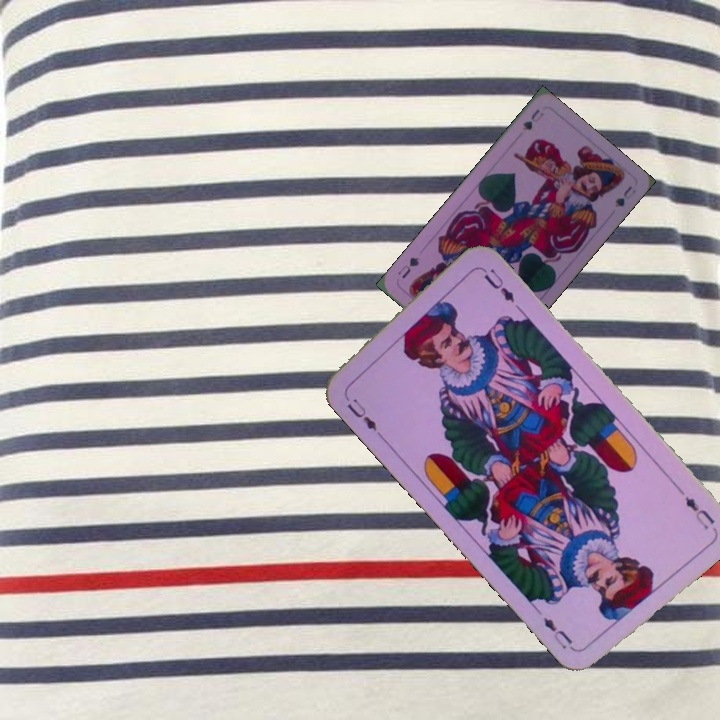EU: (340, 390, 380, 434), (681, 493, 717, 532)
GU: (519, 105, 546, 133)
